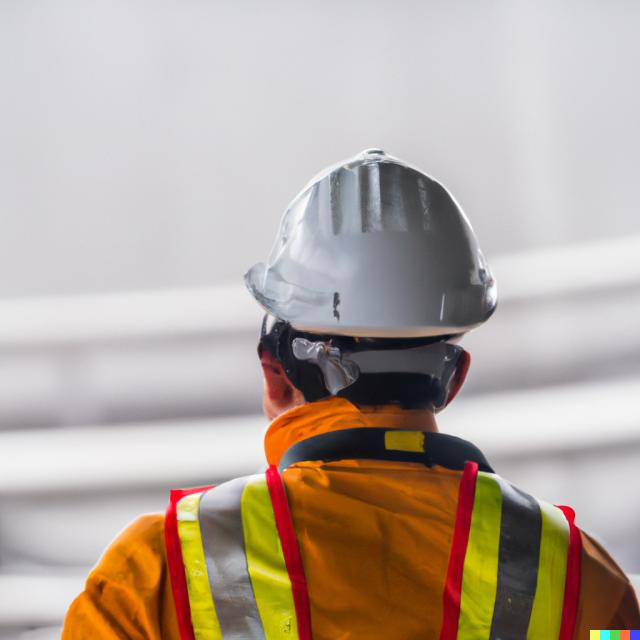Reflective-Jacket: (150, 458, 604, 640)
Safety-Helmet: (240, 148, 508, 344)
